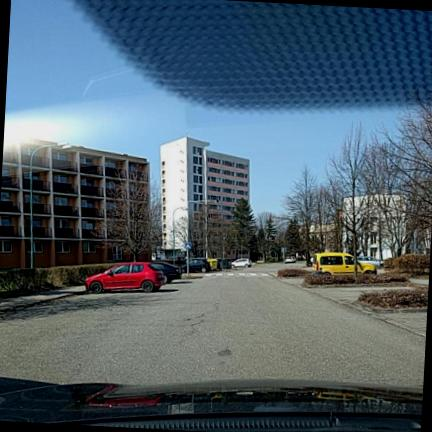Road: (0, 265, 425, 385)
